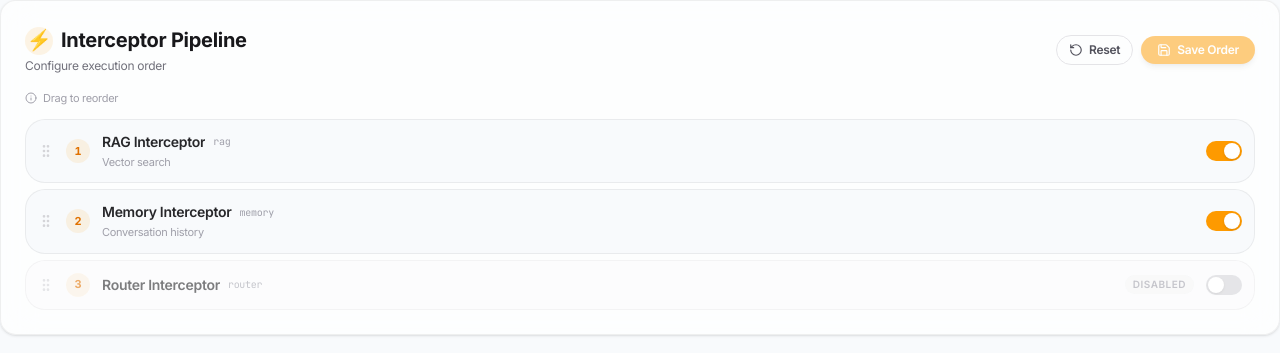
Test: PipelineConfigCard › handles saving errors gracefully
The width and height of the screenshot is (1280, 353).
Expected: the text "RAG Interceptor" is shown, [102,132,205,152]
Click the button named "Toggle RAG Interceptor": (1224, 151) [1206,141,1242,161]
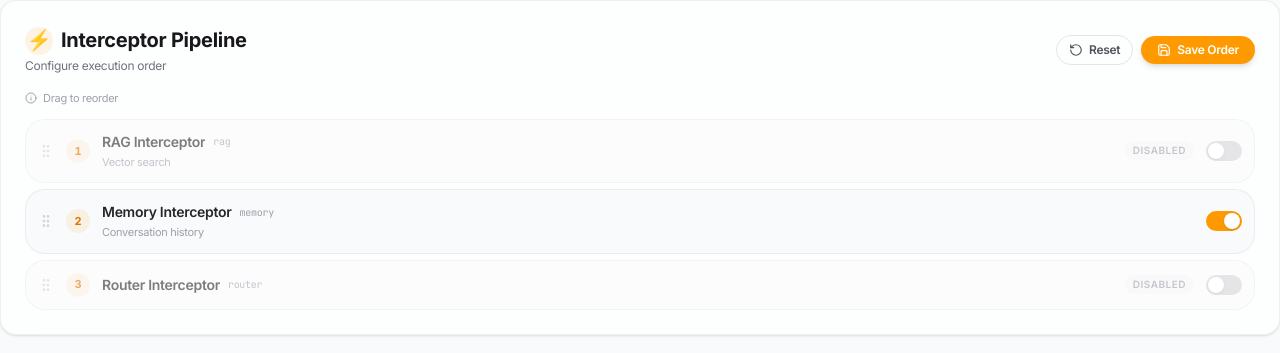
Click the button "Save Order": (1198, 50) [1141,36,1255,64]
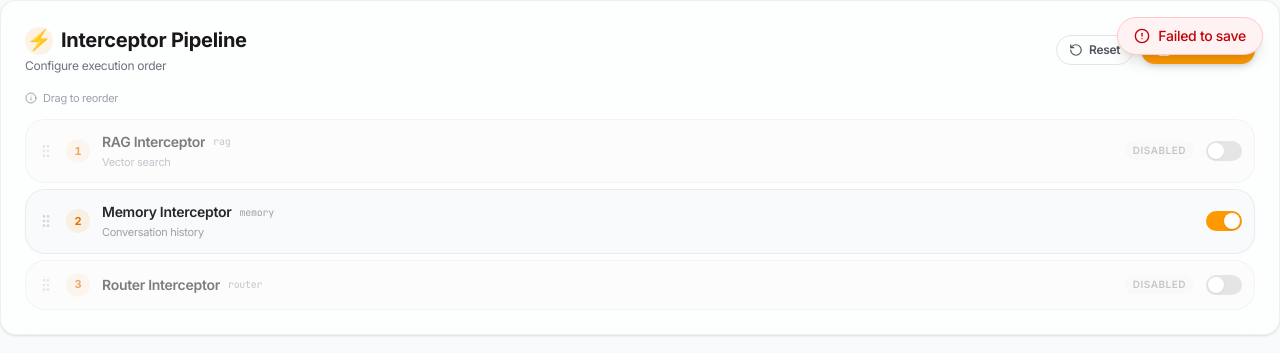
Expected: the text "Failed to save" is shown, [1117,17,1263,55]
